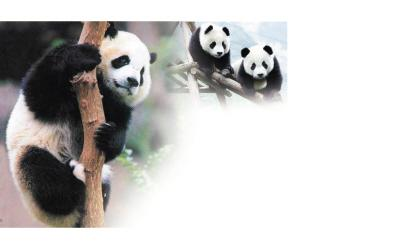panda: (7, 21, 158, 236), (187, 22, 234, 88), (236, 39, 281, 104)
